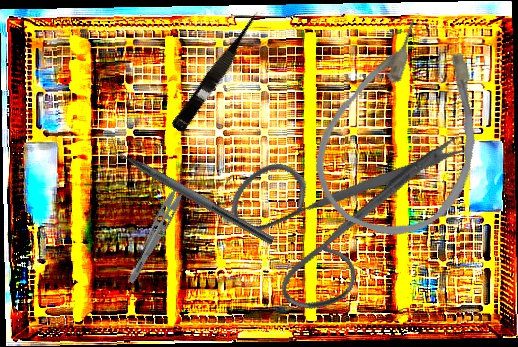Cannula: (295, 4, 517, 257)
Chopper: (100, 132, 282, 246)
Iris Scissors: (202, 63, 475, 344)
Micro Scissor: (170, 6, 268, 136)
Tissue Forceps: (125, 173, 195, 289)
